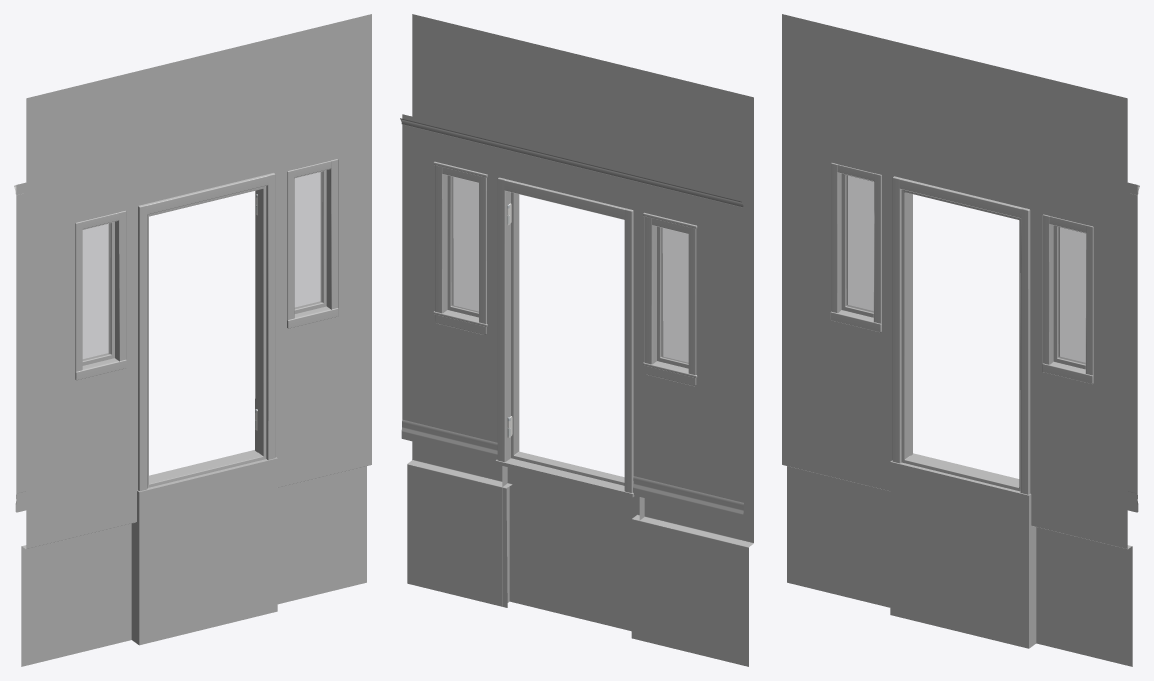
The model's file is DoorFrame_400_B.fbx.
The picture shows the model from 3 angles, left to right: view 1: azimuth 30°, elevation 25°; view 2: azimuth 150°, elevation 25°; view 3: azimuth 330°, elevation 25°; orthographic projection.
Visible parts, largest first — view 1: DoorFrame_400_B; view 2: DoorFrame_400_B; view 3: DoorFrame_400_B.
Part boxes in pixels (left/top/right/bottom): DoorFrame_400_B: left=14, top=14, right=371, bottom=666; DoorFrame_400_B: left=400, top=14, right=753, bottom=666; DoorFrame_400_B: left=782, top=14, right=1139, bottom=666.
Size of the model in its own units: 280 by 443 by 20.49.
